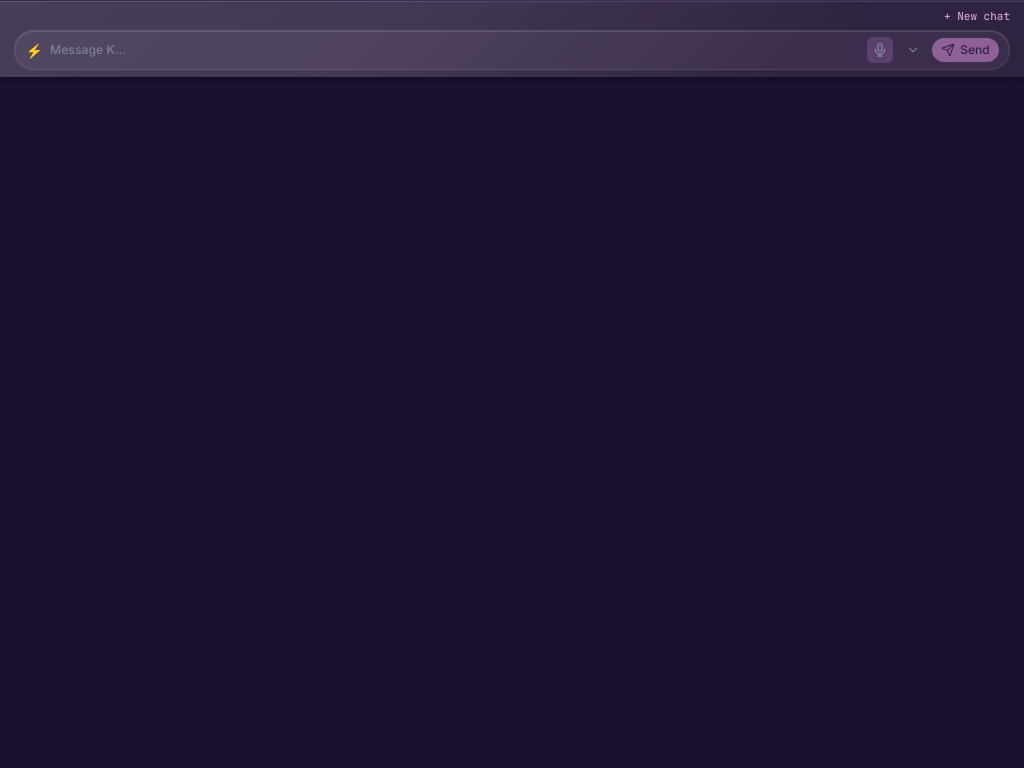
Scenario: MessageDock dispatch semantics › "@" prefix lists projects; picking one opens the confirm card
No route preview for @-prefixed text.
Type "@Demo build the thing" into the field with test id "dock-input" at (454,50), box [50,41,859,59]
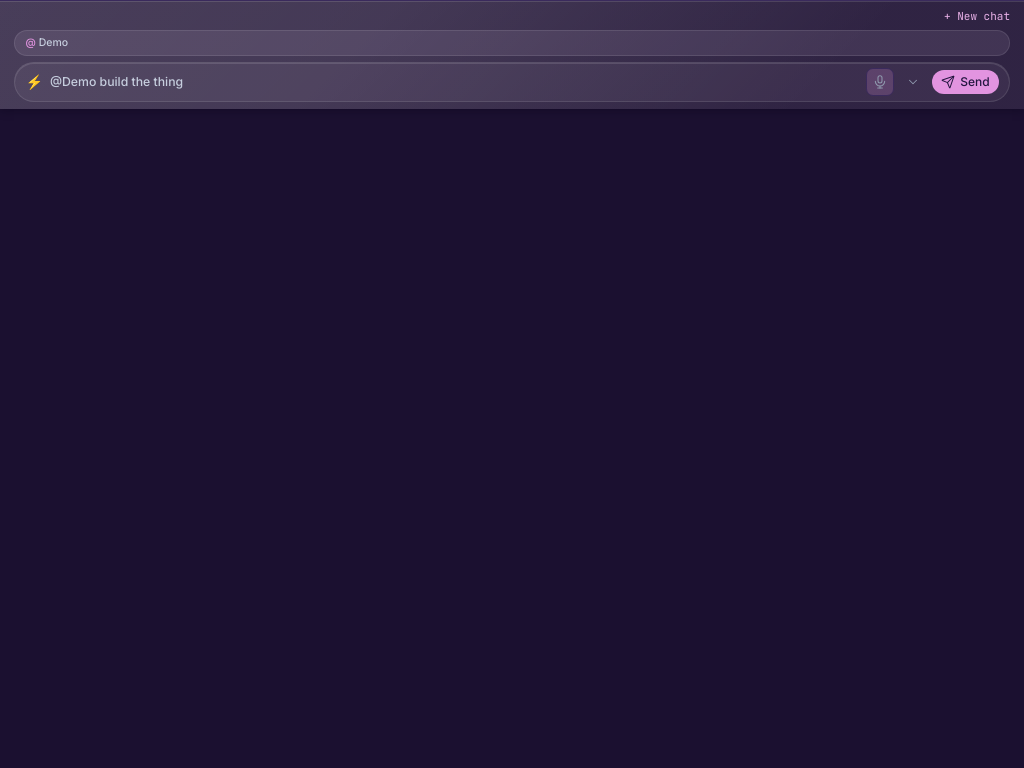
Click the button with test id "dock-project-row-p1" at (31,42), box [15,31,1009,55]
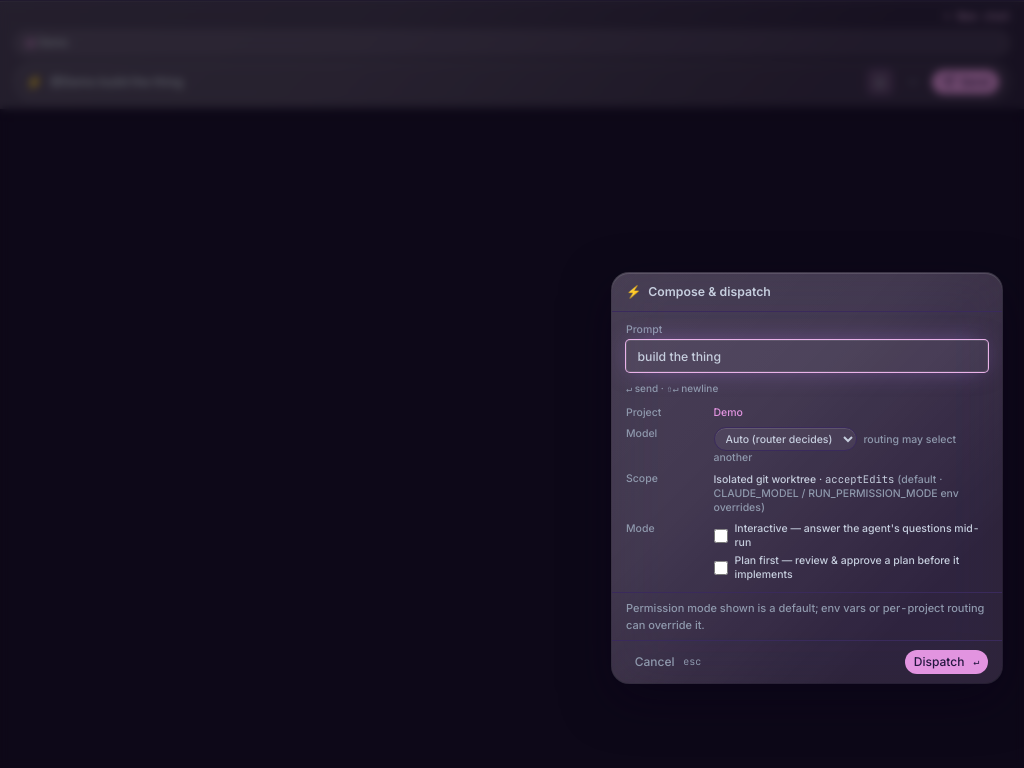
Expected: the dialog with test id "dock-dispatch-card" is shown, [611,272,1003,684]
Expected: the text box with test id "dock-dispatch-compose" holds "build the thing", [626,340,988,372]
